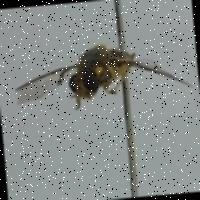Oriental-fruit-fly: (5, 29, 196, 129)
